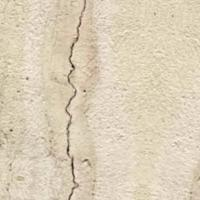crack: (40, 1, 107, 199)
